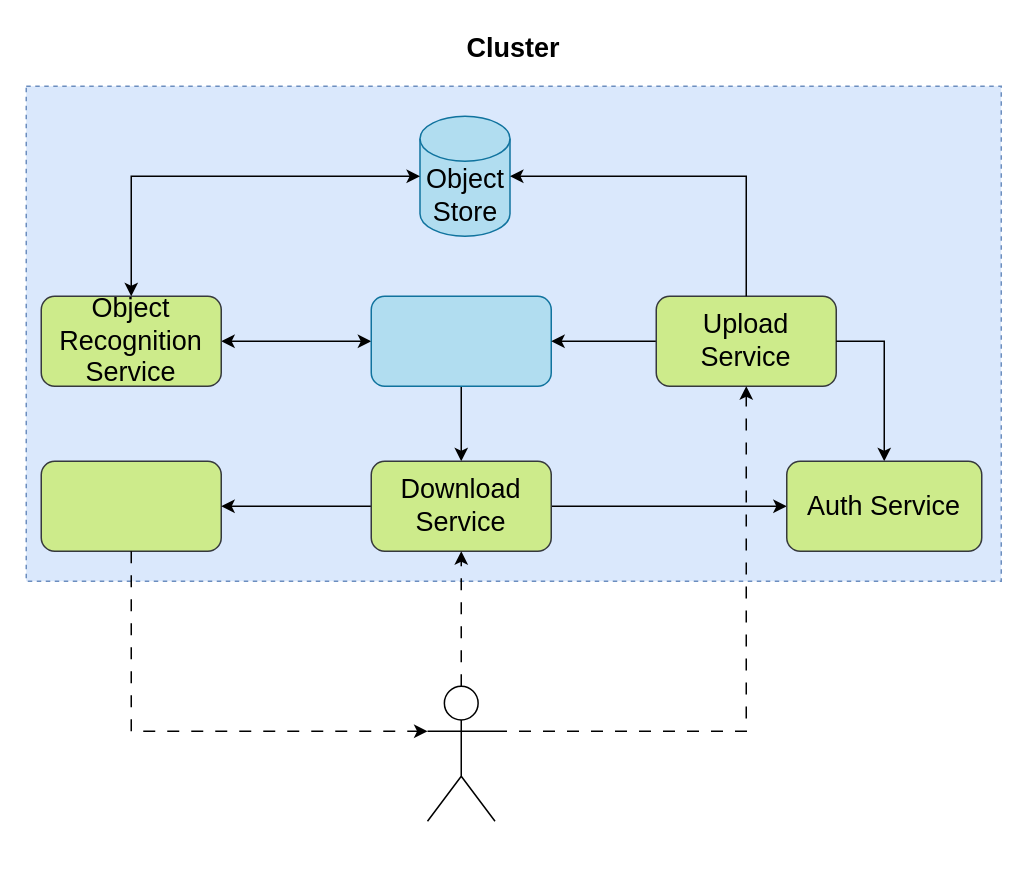
Image size: 1028x893. Some labels were removed from this diagram. Each missing label, with the centre of its shape:
Notification Service: point 130,505
Queue: point 460,340
User: point 460,753
